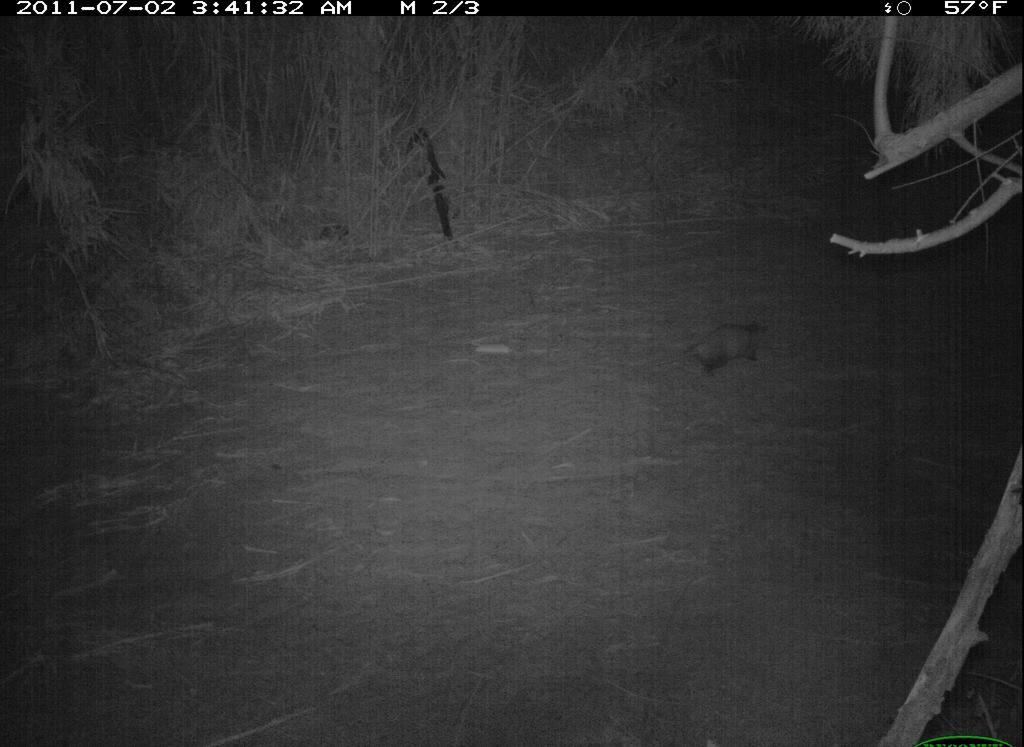opossum: (679, 313, 780, 381)
